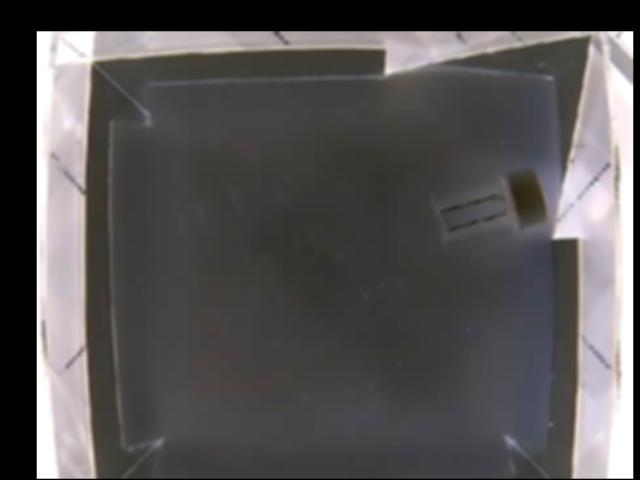Bottle: (432, 168, 553, 249)
